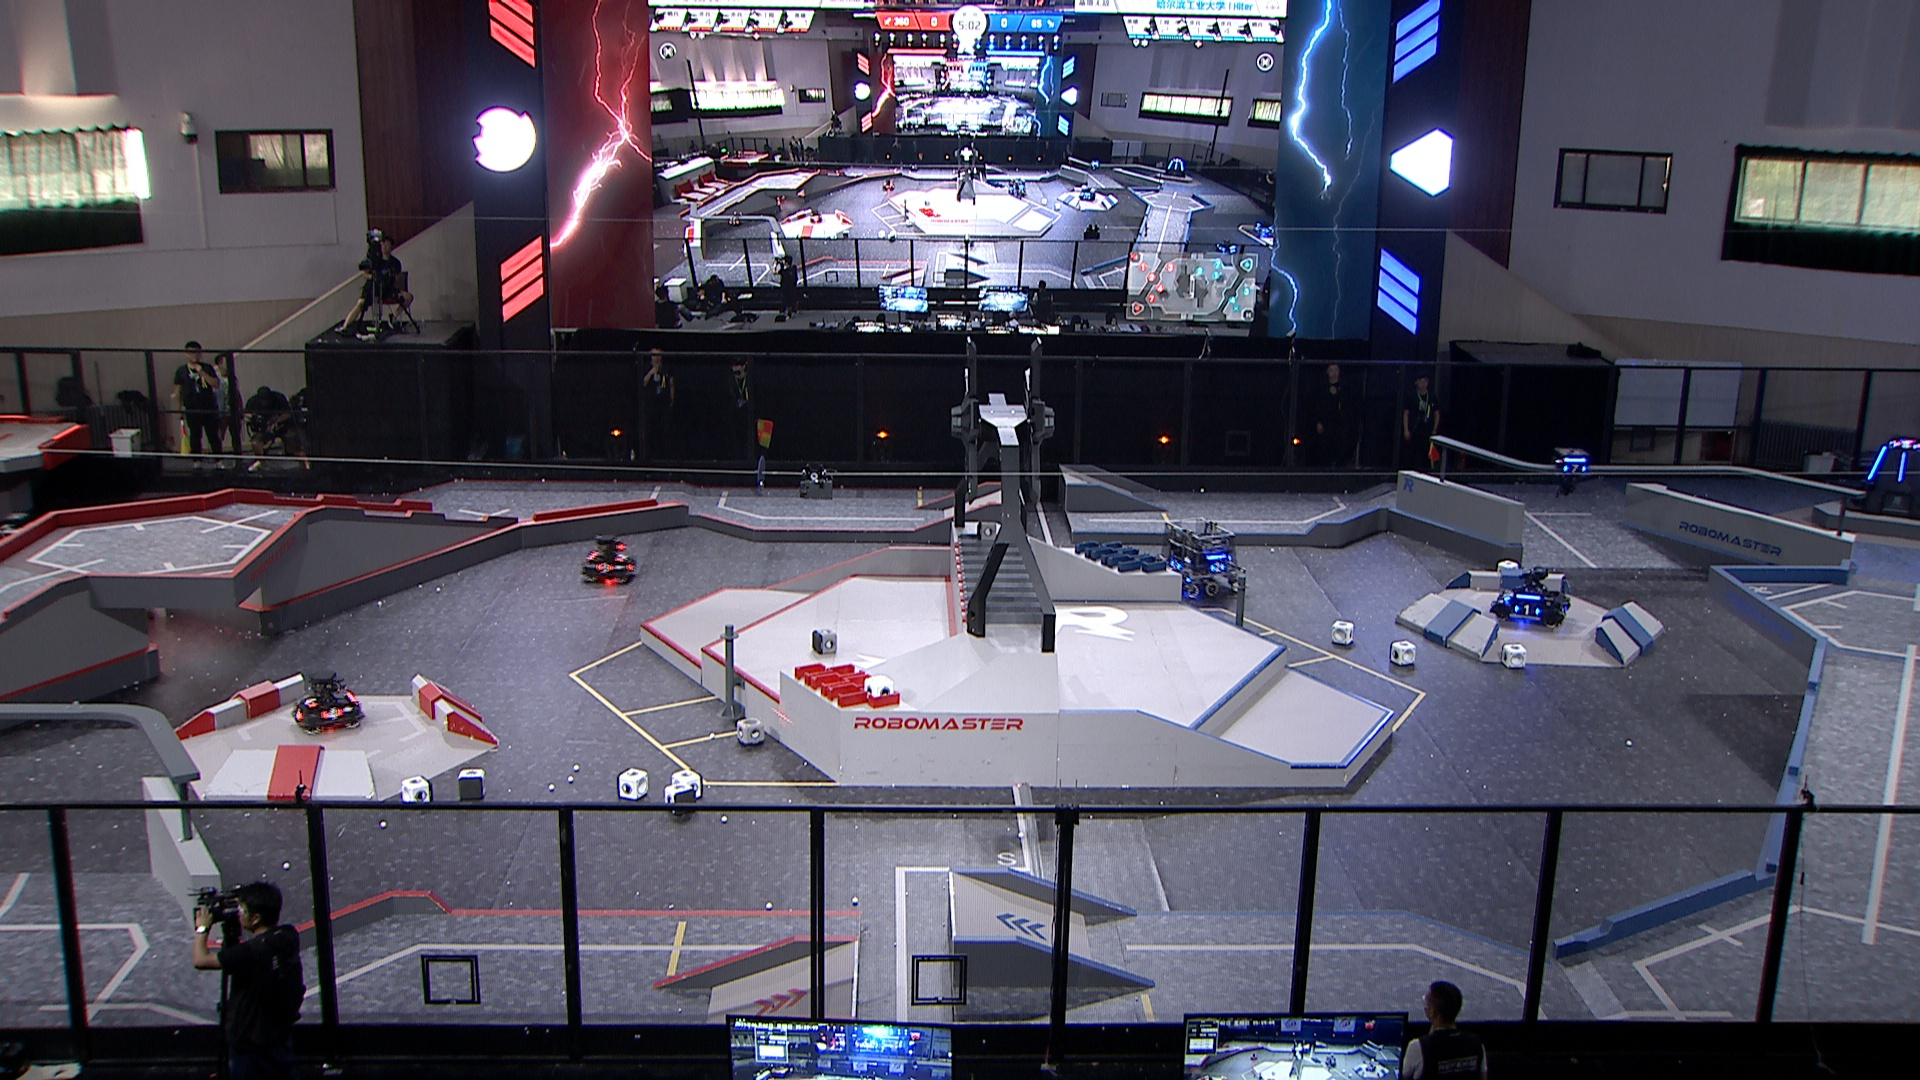armor: (1869, 444, 1888, 484), (1513, 603, 1542, 617), (319, 705, 344, 721), (1561, 462, 1586, 476), (1898, 450, 1908, 483), (301, 695, 318, 711), (593, 560, 612, 574), (1209, 560, 1226, 574), (1168, 559, 1185, 572), (291, 707, 305, 723), (615, 551, 628, 564)
base: (1842, 436, 1920, 522)
car: (1156, 516, 1245, 599), (1487, 564, 1571, 628), (289, 671, 367, 732), (578, 534, 637, 585)
ignore: (1006, 174, 1027, 196), (1163, 158, 1187, 178), (1215, 237, 1240, 255), (1253, 219, 1275, 237), (1077, 183, 1097, 202), (1892, 438, 1920, 451), (727, 208, 744, 228), (880, 175, 895, 193), (808, 207, 823, 224)
watcher: (1549, 447, 1590, 498)
